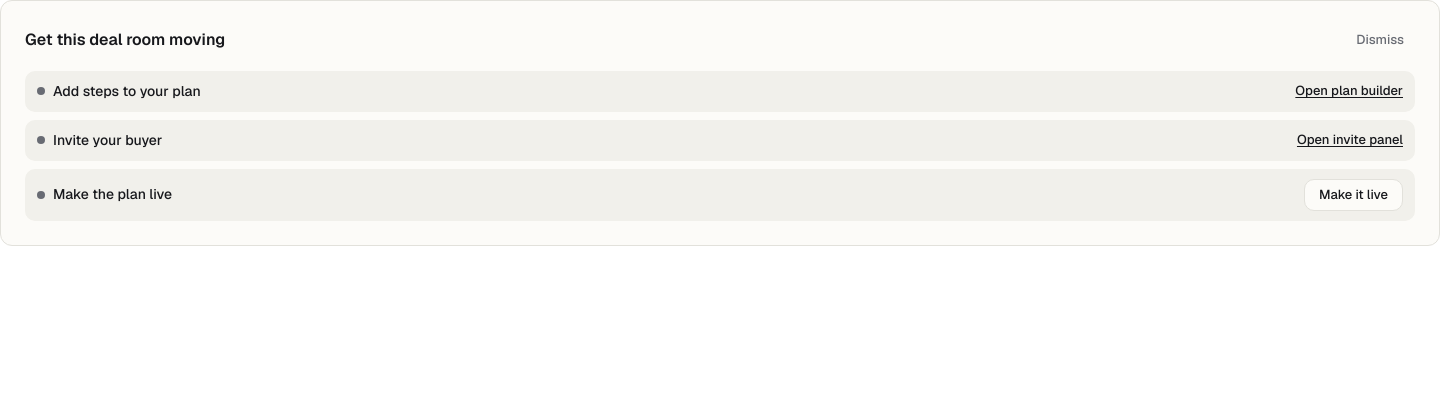
it: ActivationChecklist — a stale page refused by the server (T60) › surfaces the same wall inline when the action comes back DEAL_LIMIT_REACHED
The width and height of the screenshot is (1440, 419).
Click the button "Make it live": (1354, 194) [1304,178,1403,210]
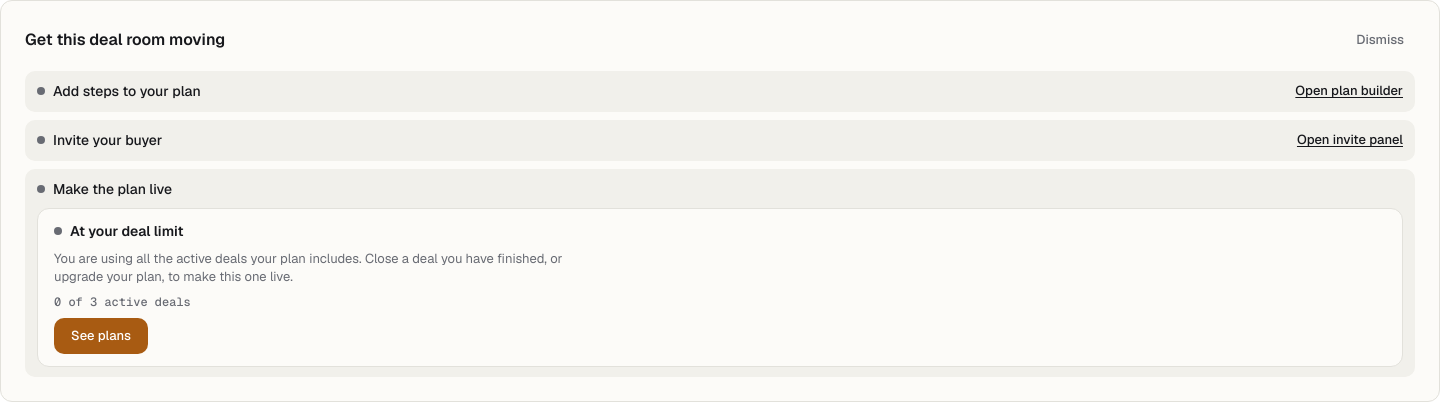
Expected: the button "Make it live" is gone
